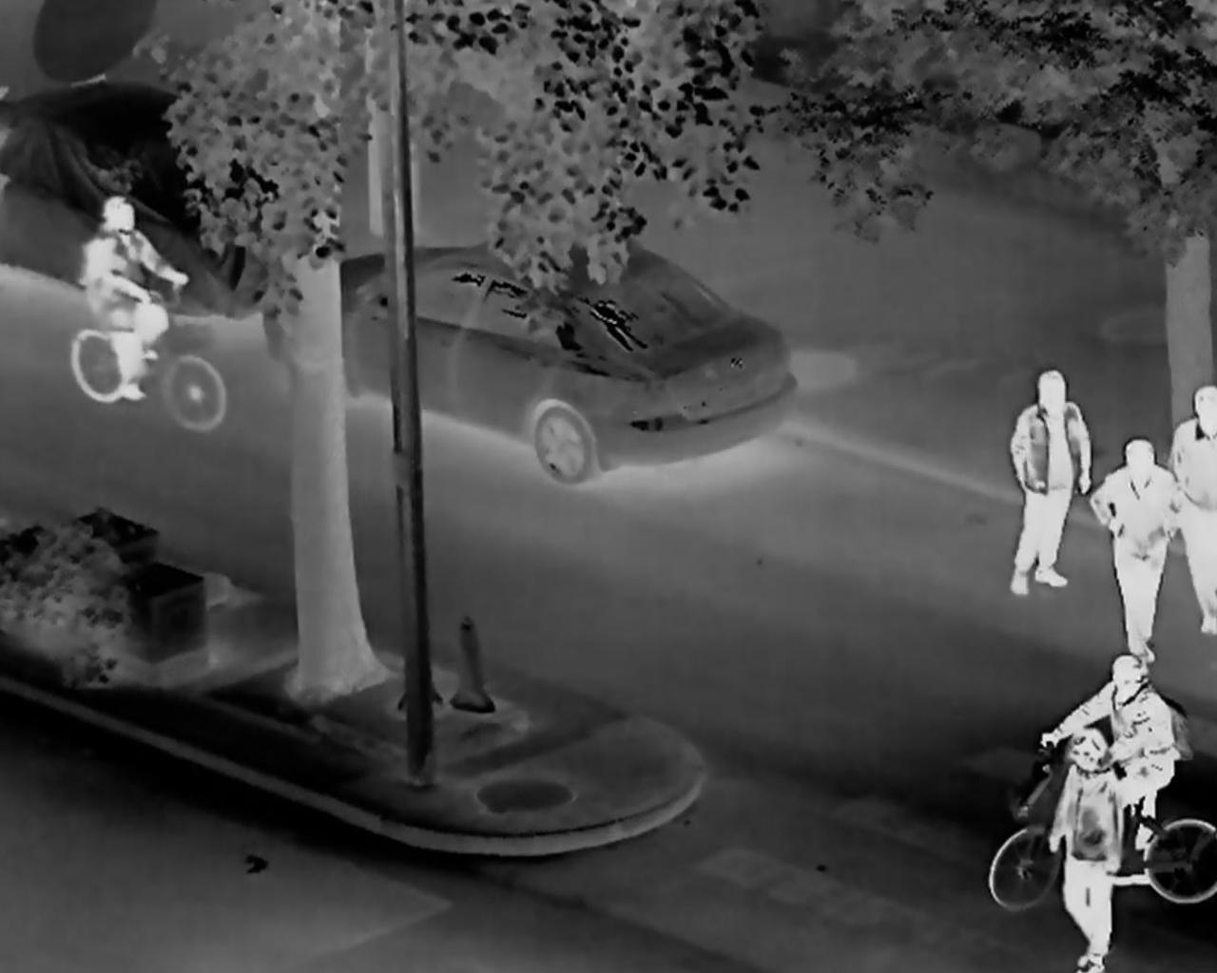person: (1040, 658, 1188, 843), (80, 196, 190, 400), (1003, 368, 1091, 598), (1091, 434, 1177, 658), (1051, 732, 1125, 972), (1168, 387, 1216, 639)
